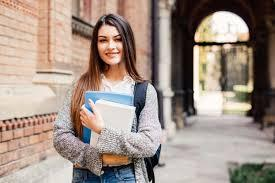person: (88, 10, 137, 70)
